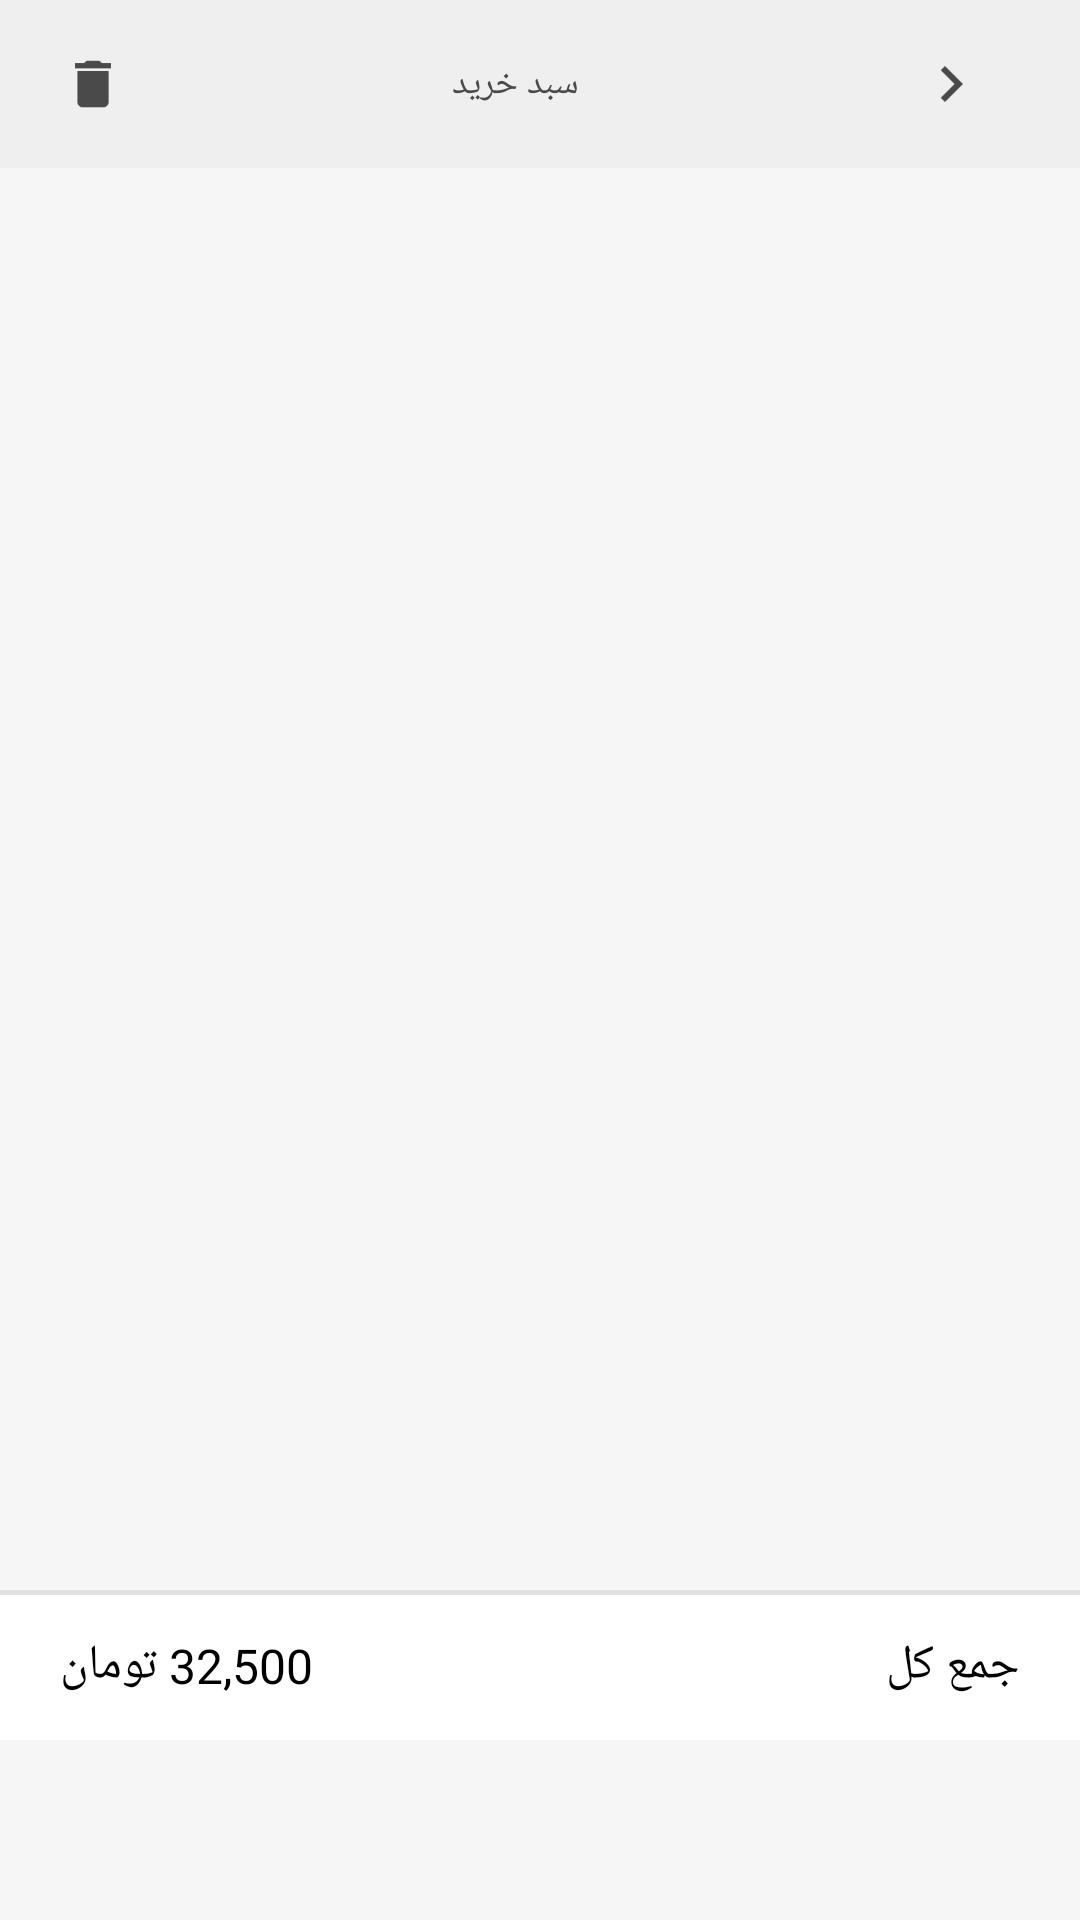

Where icons sit on this 1080 x 1920 app screen, as (x1, y1, x2, y2):
delete: (75, 60, 111, 108)
